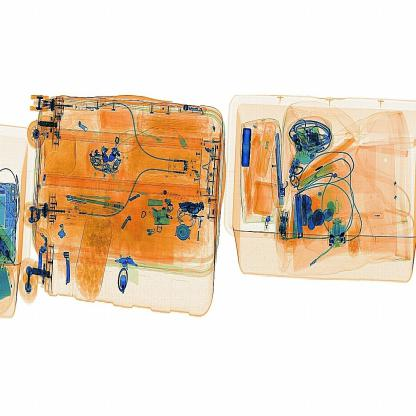pliers: (273, 126, 286, 212)
